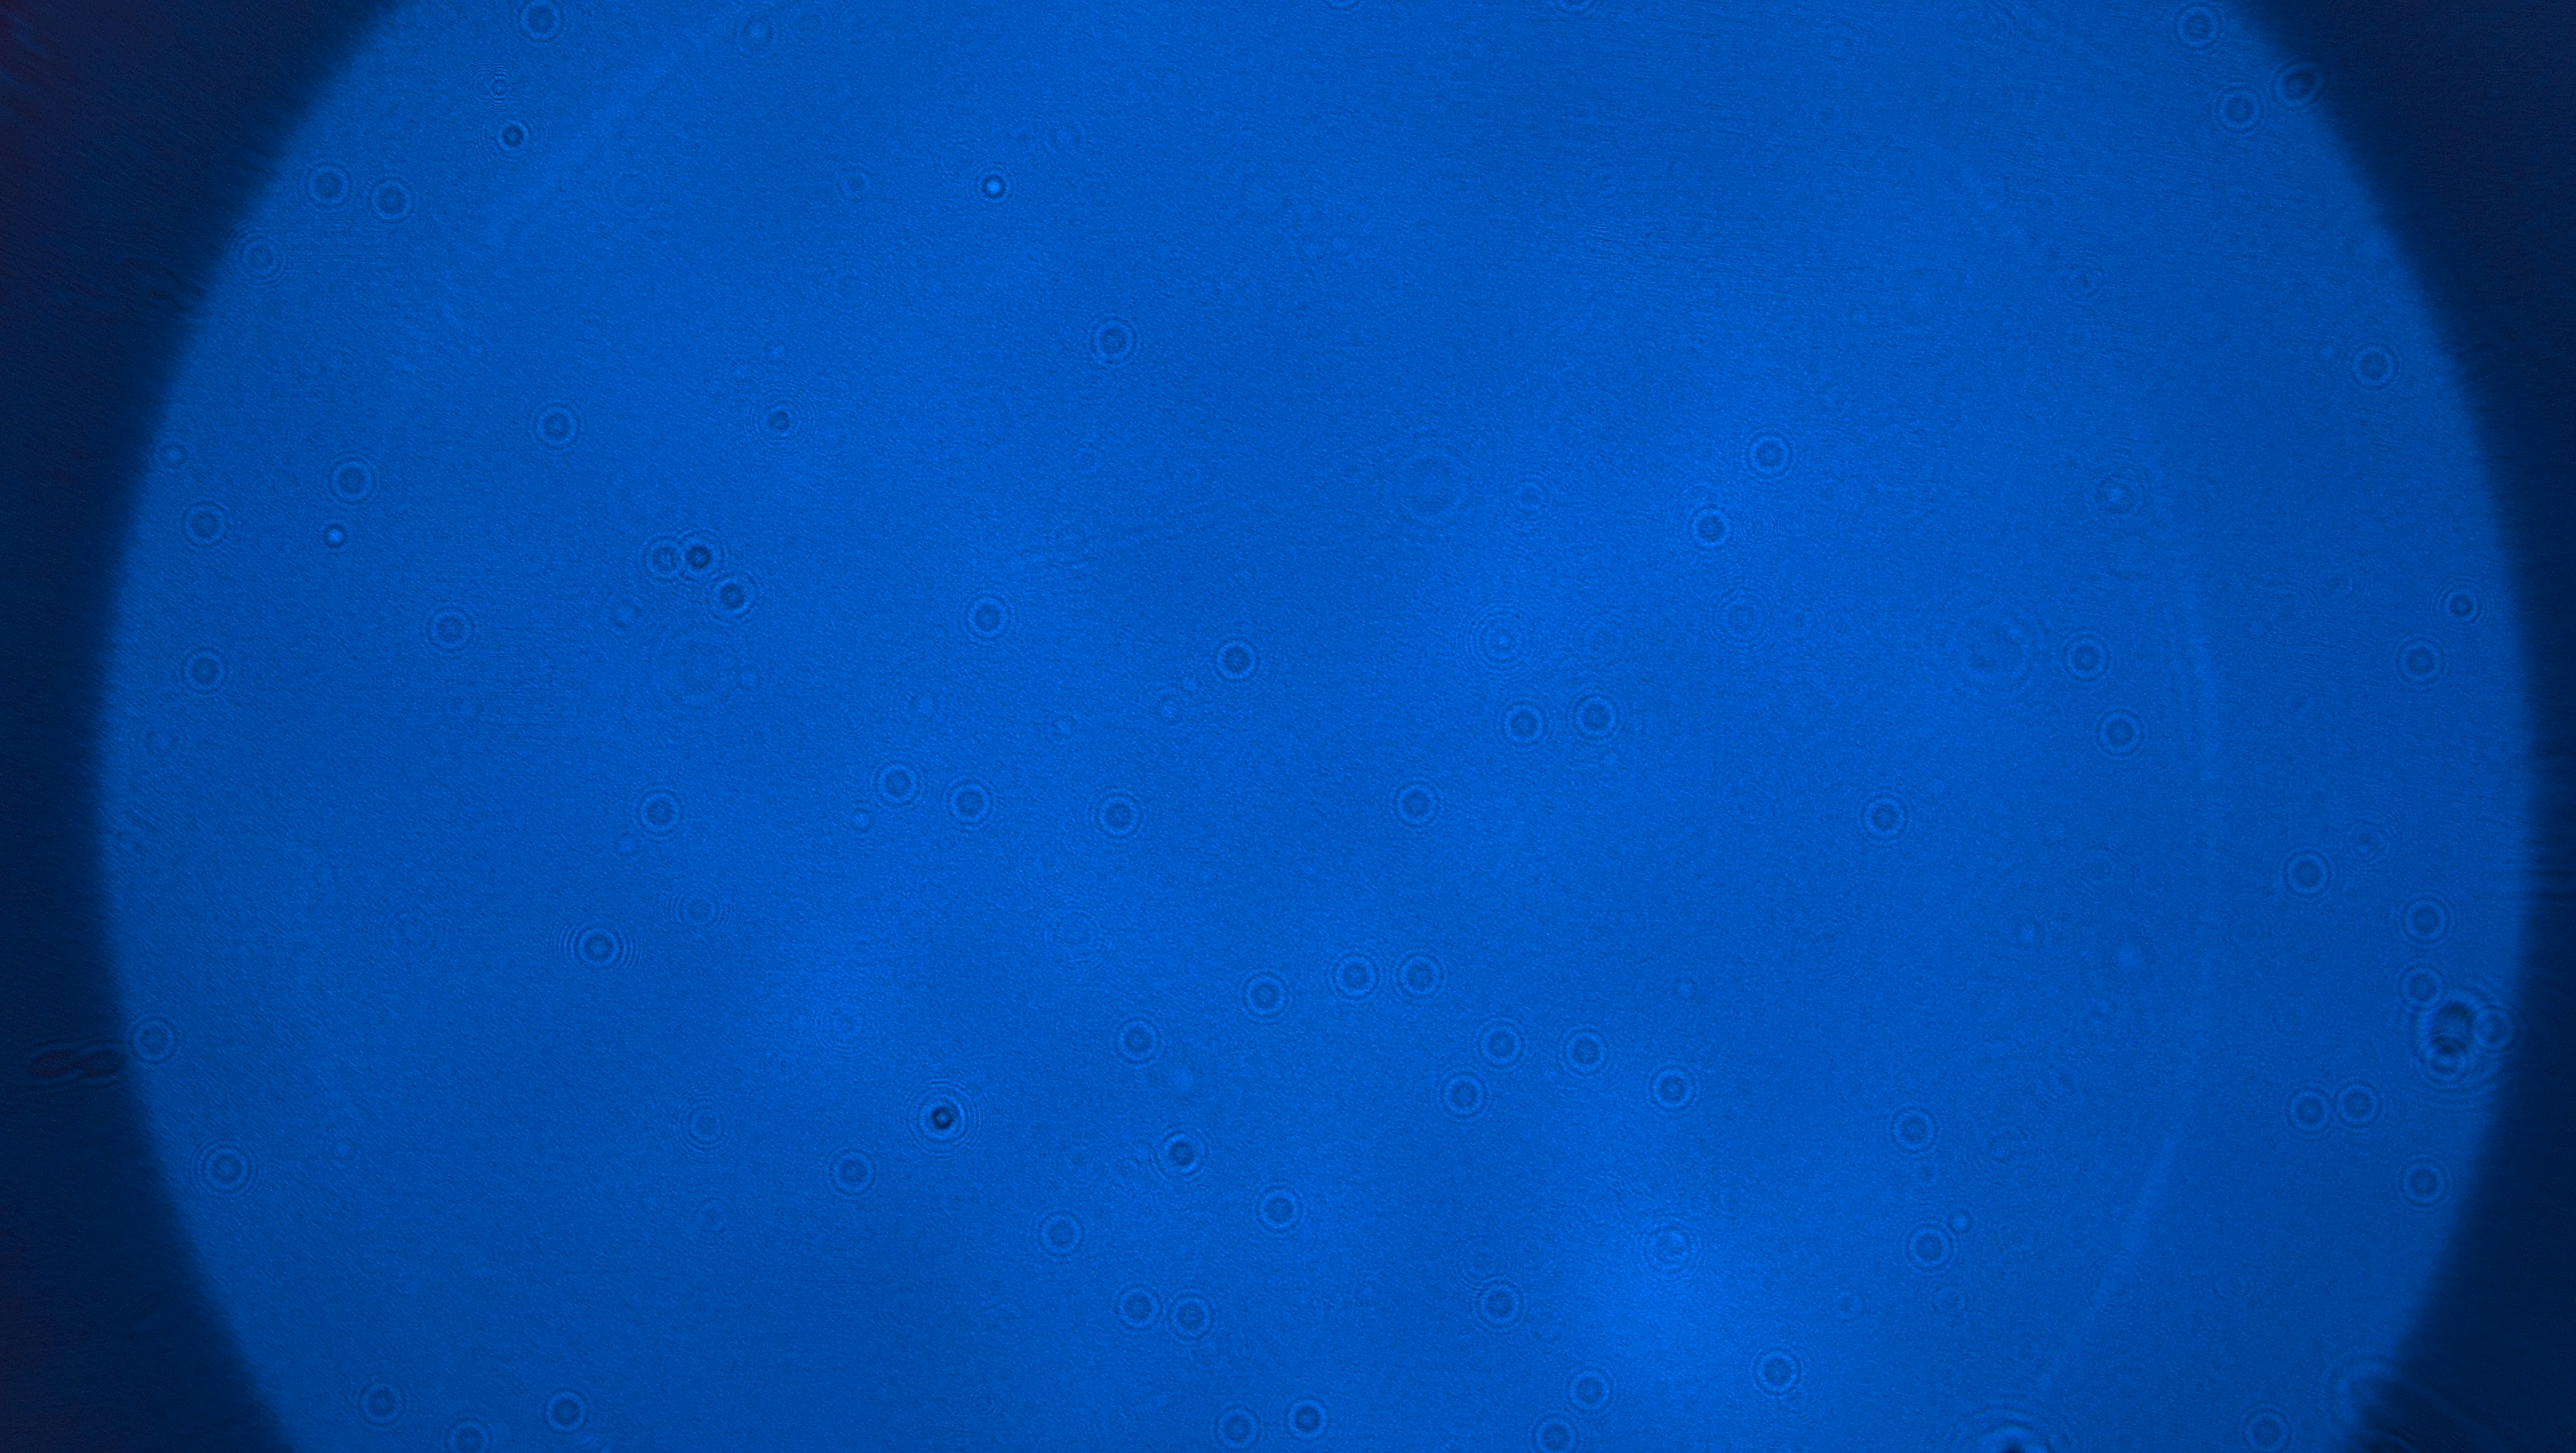bead: (1076, 779, 1159, 858), (414, 586, 487, 669), (182, 1131, 264, 1200), (2376, 623, 2449, 699), (2075, 697, 2158, 761), (2390, 1150, 2461, 1221), (2051, 625, 2127, 687), (1168, 1272, 1224, 1356), (1463, 1272, 1537, 1334), (1847, 786, 1918, 850), (165, 641, 242, 697), (2328, 1078, 2403, 1136), (1200, 630, 1274, 687), (1875, 1101, 1951, 1156), (1470, 1007, 1536, 1071), (1246, 1175, 1313, 1237), (517, 396, 587, 453), (2268, 1078, 2332, 1140), (2204, 80, 2270, 140), (952, 589, 1021, 646), (170, 494, 239, 550), (2344, 331, 2403, 396), (1391, 945, 1453, 1005), (1231, 970, 1299, 1025), (1023, 1205, 1092, 1258), (2272, 848, 2342, 899), (1277, 1382, 1336, 1444), (1320, 949, 1385, 1003), (821, 1145, 886, 1200), (943, 770, 1001, 830), (1424, 1067, 1490, 1120), (1679, 497, 1737, 556), (297, 156, 356, 214), (1385, 780, 1449, 834), (1205, 1400, 1269, 1453), (566, 919, 632, 970), (1557, 1023, 1617, 1078), (1736, 428, 1798, 481), (865, 759, 929, 811), (2233, 1403, 2298, 1453), (1108, 1016, 1168, 1069), (1750, 1345, 1812, 1396), (129, 1012, 191, 1064), (1645, 1062, 1702, 1117), (1569, 688, 1624, 743), (1499, 699, 1552, 756), (1108, 1280, 1161, 1336), (1086, 315, 1143, 368), (2164, 2, 2226, 50), (324, 460, 389, 504), (1518, 1411, 1585, 1453), (1898, 1225, 1962, 1269), (372, 173, 425, 221), (1569, 1366, 1617, 1412)
dust: (1706, 580, 1805, 657), (899, 1074, 991, 1154), (1488, 469, 1582, 533), (341, 1366, 423, 1430), (724, 12, 812, 69), (1626, 1219, 1706, 1278), (665, 1094, 740, 1156), (1145, 1124, 1215, 1184), (662, 878, 734, 936), (743, 395, 812, 451), (232, 232, 294, 283), (386, 904, 442, 957), (2427, 577, 2484, 628), (495, 117, 545, 154)
